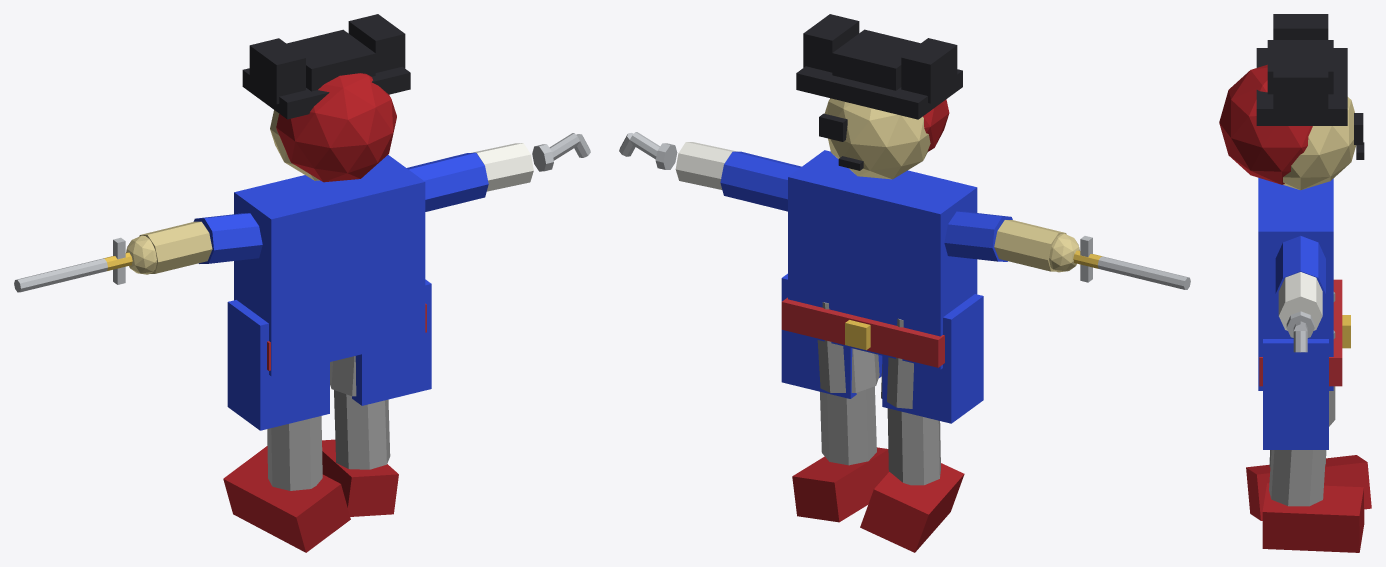
File: Pirate.fbx
3 views of the same model, side by side, from view 1: azimuth 30°, elevation 25°; view 2: azimuth 150°, elevation 25°; view 3: azimuth 270°, elevation 25° (orthographic). The views are drawn at different scales.
Parts seen in each view (by area): view 1: Coat, Hair, Coat Tail L, Left Boot, Coat Tail R, Right Shin, Left Shin, Hat Crown, Right Boot, Right Upper Arm, Hat Peak L, Left Upper Arm (+7 smaller); view 2: Coat, Coat Tail L, Head, Left Boot, Sash, Right Boot, Right Shin, Hat Brim, Left Shin, Hat Crown, Right Upper Arm, Hat Peak L (+11 smaller); view 3: Coat, Coat Tail R, Right Boot, Hair, Head, Hat Peak R, Right Shin, Hat Brim, Left Boot, Right Upper Arm, Hat Crown, Right Forearm (+7 smaller).
Boxes of the visible parts, x1,y1,x2,y2 form: Coat: [234, 155, 425, 376]; Hair: [276, 73, 396, 182]; Coat Tail L: [227, 300, 329, 430]; Left Boot: [223, 446, 350, 552]; Coat Tail R: [352, 279, 431, 405]; Right Shin: [334, 390, 390, 469]; Left Shin: [267, 416, 322, 490]; Hat Crown: [286, 29, 375, 91]; Right Boot: [322, 439, 398, 516]; Right Upper Arm: [407, 152, 488, 211]; Hat Peak L: [249, 38, 305, 104]; Left Upper Arm: [193, 213, 262, 263]; Coat: [788, 150, 977, 369]; Coat Tail L: [882, 294, 983, 423]; Head: [824, 98, 930, 179]; Left Boot: [860, 463, 964, 552]; Sash: [781, 297, 944, 367]; Right Boot: [792, 447, 888, 522]; Right Shin: [820, 386, 876, 465]; Hat Brim: [796, 66, 962, 119]; Left Shin: [887, 408, 940, 485]; Hat Crown: [832, 29, 920, 90]; Right Upper Arm: [720, 151, 801, 211]; Hat Peak L: [901, 38, 957, 103]; Coat: [1258, 177, 1333, 390]; Coat Tail R: [1263, 339, 1328, 449]; Right Boot: [1262, 483, 1364, 552]; Hair: [1219, 64, 1312, 184]; Head: [1283, 97, 1356, 190]; Hat Peak R: [1273, 63, 1328, 117]; Right Shin: [1269, 450, 1326, 506]; Hat Brim: [1256, 48, 1347, 125]; Left Boot: [1246, 455, 1371, 520]; Right Upper Arm: [1275, 236, 1325, 300]; Hat Crown: [1267, 40, 1333, 94]; Right Forearm: [1278, 272, 1322, 330].
Bounding box in the file's own units: 4.27 × 3.45 × 0.9731.
